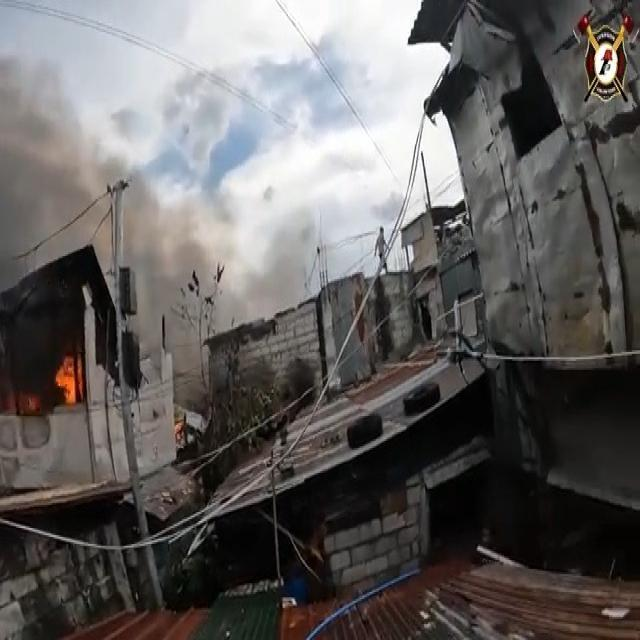Fire: (53, 348, 87, 406), (1, 386, 46, 414), (170, 416, 186, 442)
Smoke: (0, 41, 320, 414)
